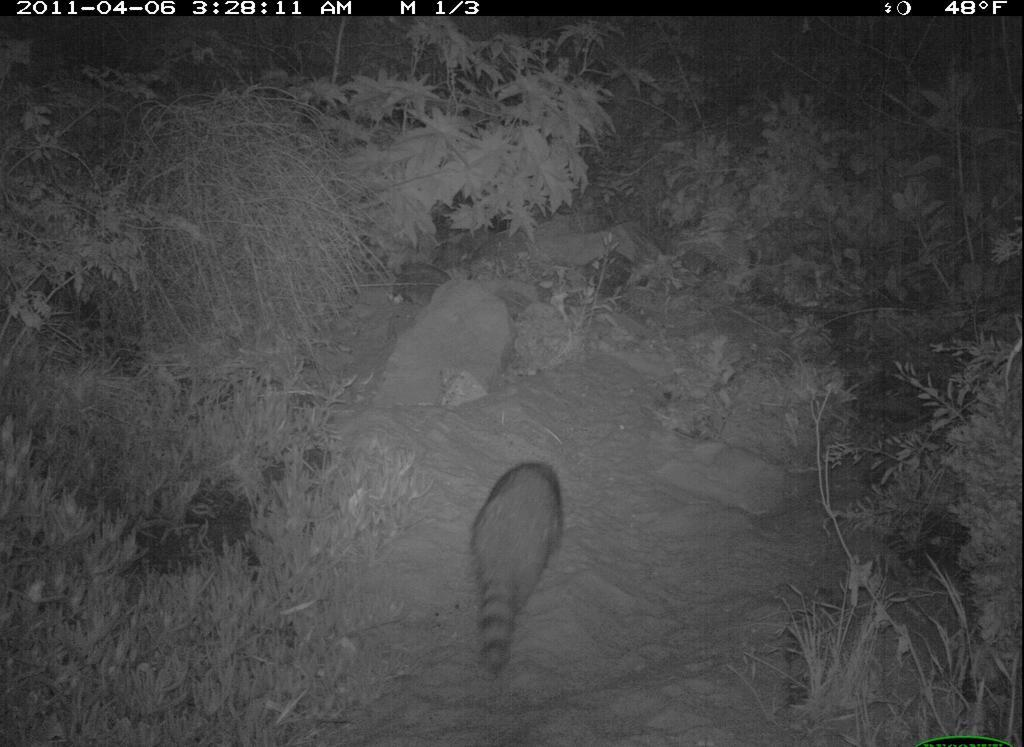raccoon: (463, 455, 578, 689)
